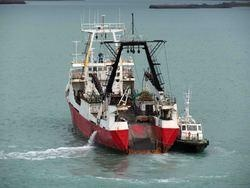otherboat: (64, 8, 208, 152)
